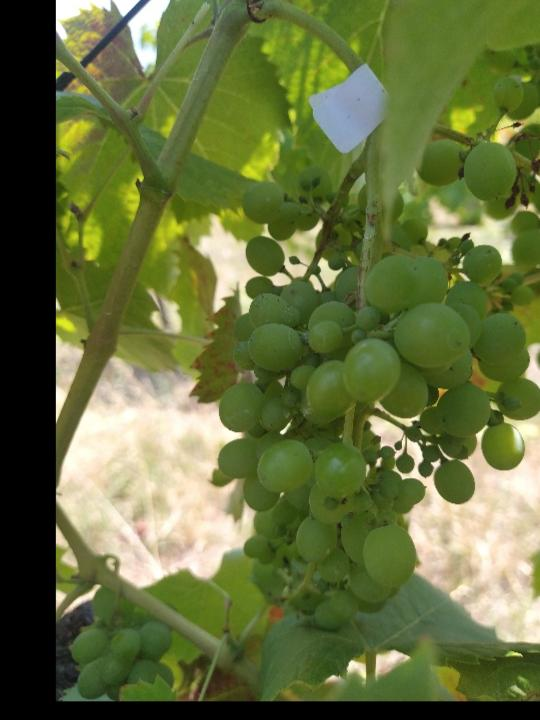grape: (215, 75, 540, 636)
